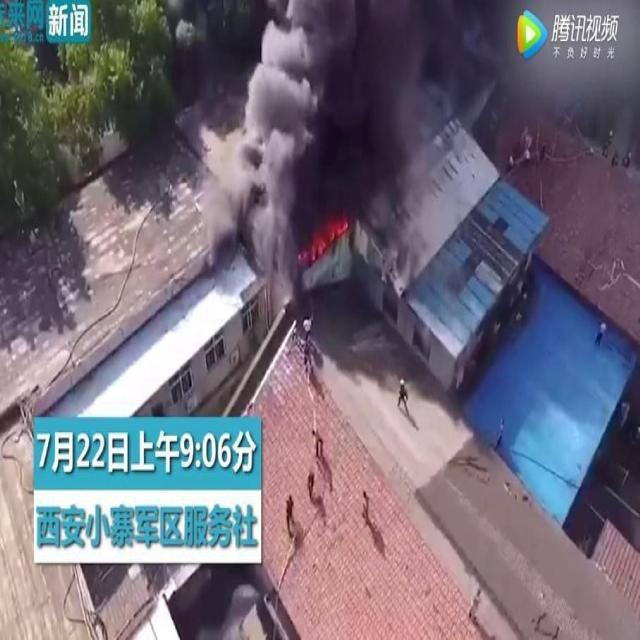Fire: (294, 217, 350, 266)
Smoke: (202, 1, 464, 280), (494, 1, 640, 116)
